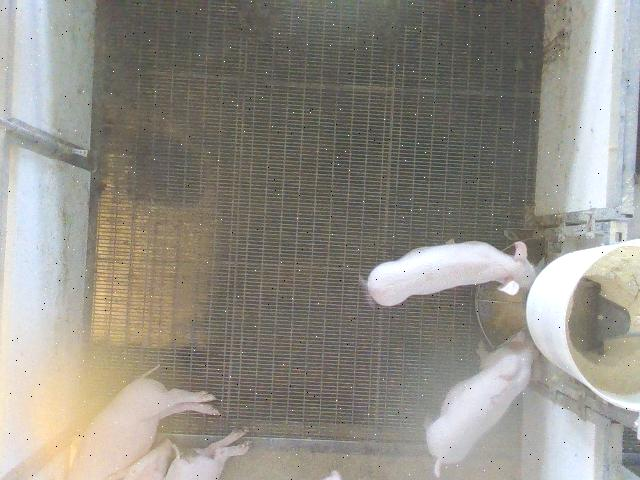pig-5: (425, 331, 545, 476)
